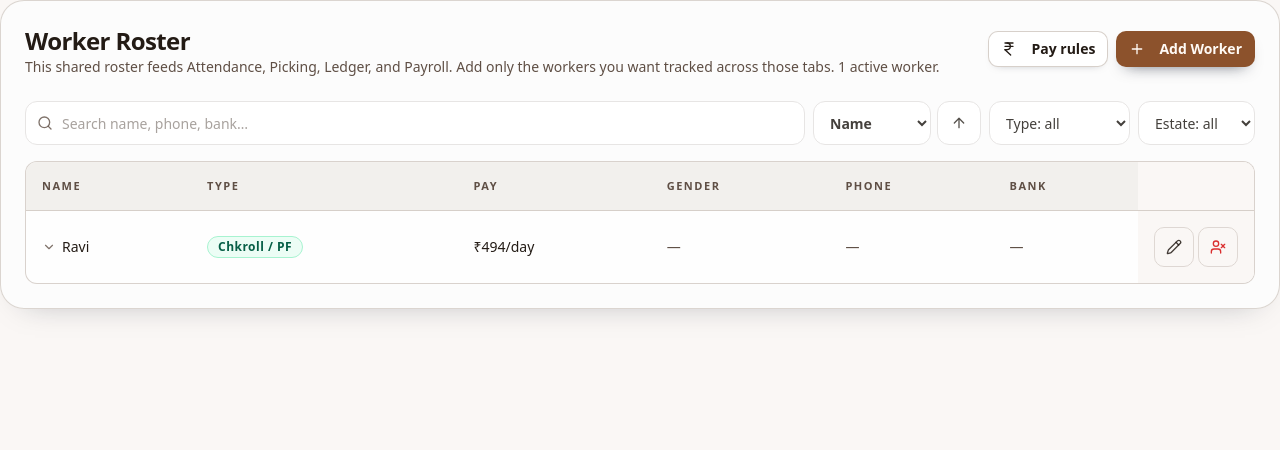
a worker taken off the roster can be found and put back › puts a worker into the recovery list the moment they are deactivated
Click the button named "deactivate" at (1218,246), box [1198,226,1238,266]
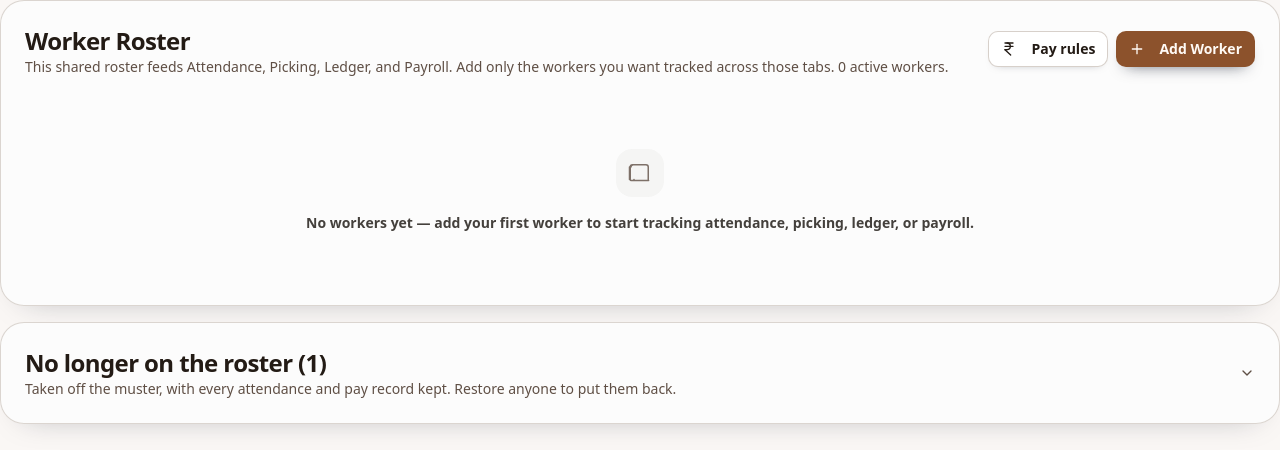
Expected: the text "No longer on the roster (1)" is shown, [25,346,326,379]
